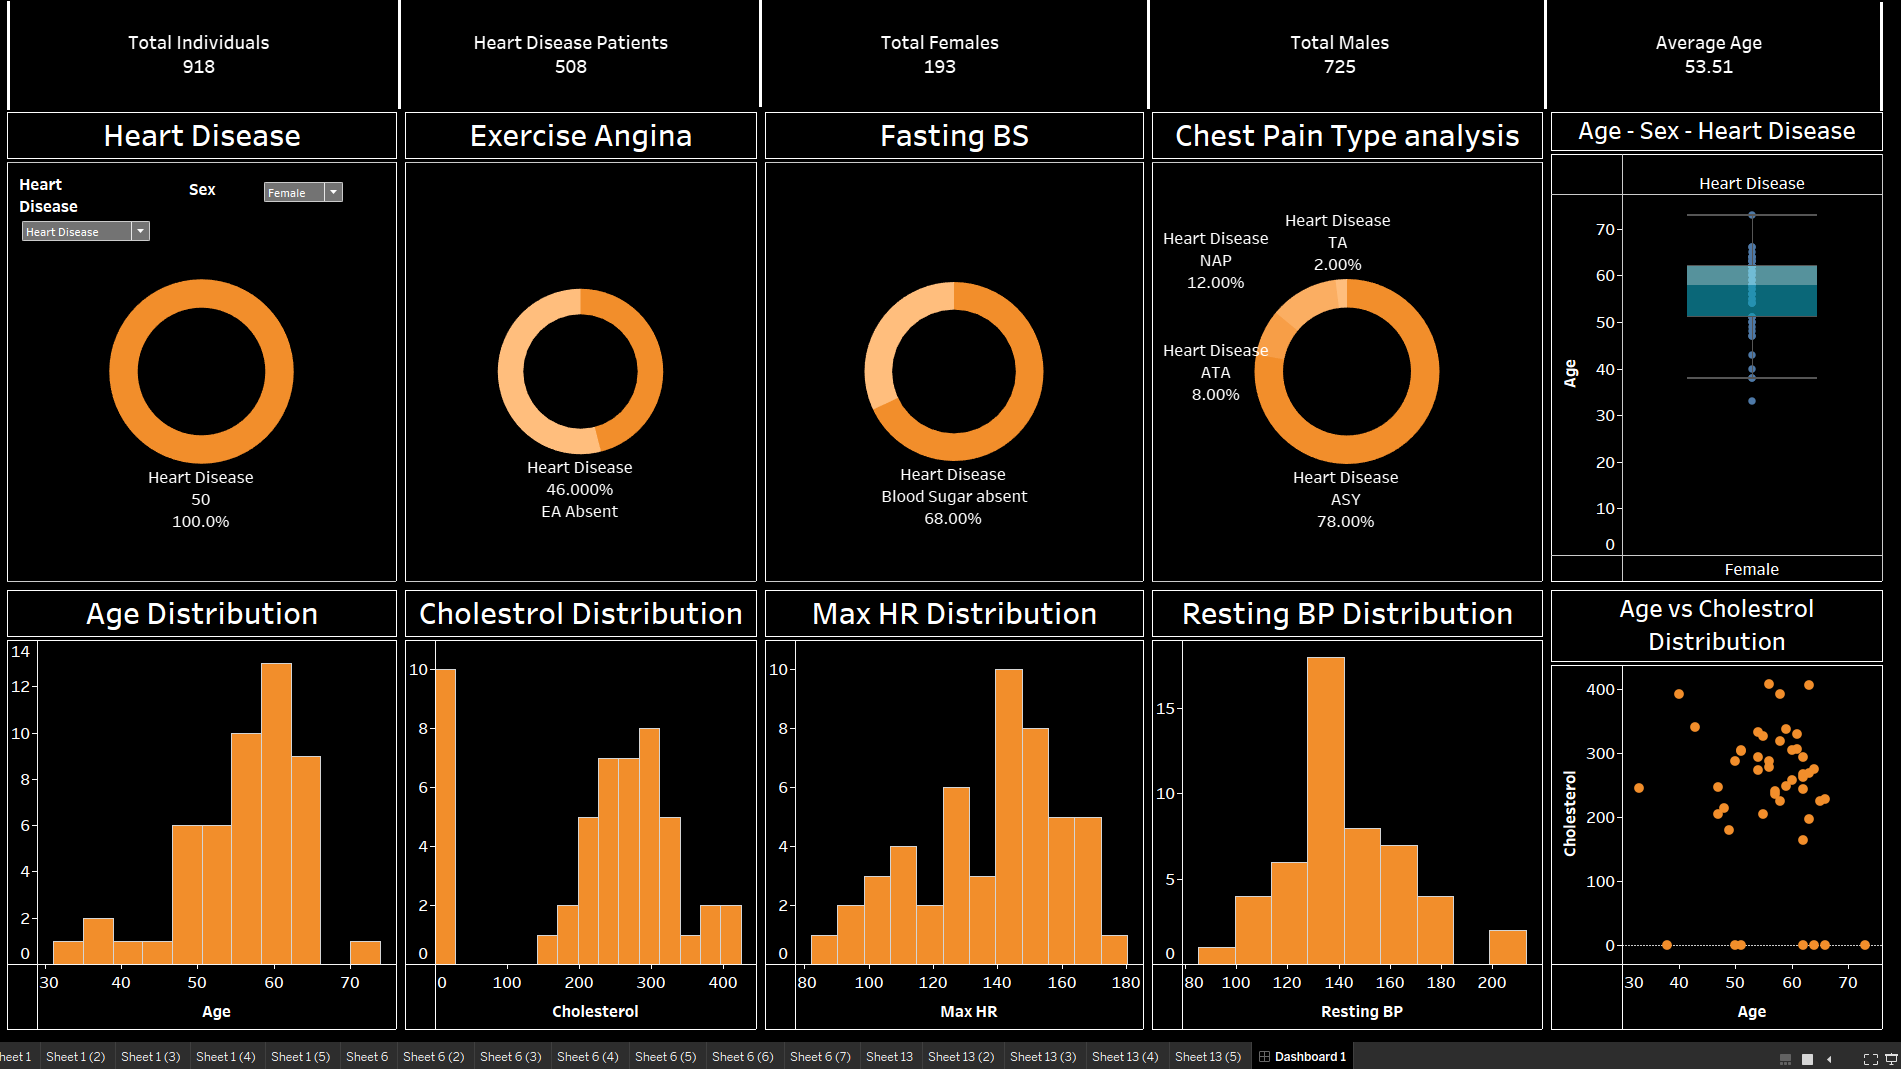

What the dashboard file says about the page in this screenshot:
{"tool":"tableau","page":{"name":"Dashboard 1","canvas":[1900,1050],"ordinal":0},"visuals":[{"type":"blank","box":[764,6,3,109]},{"type":"worksheet","title":"Sheet 13","mark":"Automatic","box":[8,8,398,108]},{"type":"blank","box":[403,8,3,109]},{"type":"worksheet","title":"Sheet 13 (2)","mark":"Automatic","box":[406,8,360,108]},{"type":"worksheet","title":"Sheet 13 (3)","mark":"Automatic","box":[766,8,387,108]},{"type":"blank","box":[1152,8,3,109]},{"type":"worksheet","title":"Sheet 13 (4)","mark":"Automatic","box":[1153,8,399,108]},{"type":"blank","box":[1549,8,3,109]},{"type":"worksheet","title":"Sheet 13 (5)","mark":"Automatic","box":[1552,8,340,108]},{"type":"blank","box":[12,9,3,109]},{"type":"blank","box":[1885,10,3,109]},{"type":"worksheet","title":"Sheet 1","mark":"Pie","rows":["Calculation_1559089924405420033","Calculation_1559089924405420033"],"box":[8,116,398,478.5]},{"type":"worksheet","title":"Sheet 1 (2)","mark":"Pie","rows":["Calculation_1559089924405420033","Calculation_1559089924405420033"],"box":[406,116,360.1,478]},{"type":"worksheet","title":"Sheet 1 (3)","mark":"Pie","rows":["Calculation_1559089924405420033","Calculation_1559089924405420033"],"box":[766,116,386.9,478]},{"type":"worksheet","title":"Sheet 1 (5)","mark":"Pie","rows":["Calculation_1559089924405420033","Calculation_1559089924405420033"],"box":[1152.9,116,399,478]},{"type":"worksheet","title":"Sheet 6 (7)","mark":"Circle","rows":["Age"],"cols":["HeartDisease","Sex"],"box":[1552,116,340,478]},{"type":"filter","title":"Sheet 1","param":"[federated.0mmssow19dczy51bjvsjd0ov2lq9].[none:HeartDisease:nk]","box":[24,181,134,85]},{"type":"filter","title":"Sheet 6 (7)","param":"[federated.0mmssow19dczy51bjvsjd0ov2lq9].[none:Sex:nk]","box":[194,187,157,36]},{"type":"worksheet","title":"Sheet 6 (2)","mark":"Automatic","rows":["Cholesterol"],"cols":["Cholesterol (bin)"],"box":[406,594,360.1,448]},{"type":"worksheet","title":"Sheet 6 (3)","mark":"Automatic","rows":["MaxHR"],"cols":["Max HR (bin)"],"box":[766,594,386.9,448]},{"type":"worksheet","title":"Sheet 6 (4)","mark":"Automatic","rows":["RestingBP"],"cols":["Resting BP (bin)"],"box":[1152.9,594,399,448]},{"type":"worksheet","title":"Sheet 6 (6)","mark":"Automatic","rows":["Cholesterol"],"cols":["Age"],"box":[1552,594,340,448]},{"type":"worksheet","title":"Sheet 6","mark":"Automatic","rows":["Age"],"cols":["Age (bin)"],"box":[8,594.5,398,447.5]}]}

Visuals, with their boxes on the page's 1900x1050 design canvas (x1, y1, x2, y2). These are canvas units, not pixel positions in the 1901x1069 screenshot, which may show the page scaled, cropped or inside an application window:
blank: 764, 6, 767, 115
"Sheet 13" worksheet: 8, 8, 406, 116
blank: 403, 8, 406, 117
"Sheet 13 (2)" worksheet: 406, 8, 766, 116
"Sheet 13 (3)" worksheet: 766, 8, 1153, 116
blank: 1152, 8, 1155, 117
"Sheet 13 (4)" worksheet: 1153, 8, 1552, 116
blank: 1549, 8, 1552, 117
"Sheet 13 (5)" worksheet: 1552, 8, 1892, 116
blank: 12, 9, 15, 118
blank: 1885, 10, 1888, 119
"Sheet 1" worksheet (Pie marks): 8, 116, 406, 594
"Sheet 1 (2)" worksheet (Pie marks): 406, 116, 766, 594
"Sheet 1 (3)" worksheet (Pie marks): 766, 116, 1153, 594
"Sheet 1 (5)" worksheet (Pie marks): 1153, 116, 1552, 594
"Sheet 6 (7)" worksheet (Circle marks): 1552, 116, 1892, 594
"Sheet 1" filter: 24, 181, 158, 266
"Sheet 6 (7)" filter: 194, 187, 351, 223
"Sheet 6 (2)" worksheet: 406, 594, 766, 1042
"Sheet 6 (3)" worksheet: 766, 594, 1153, 1042
"Sheet 6 (4)" worksheet: 1153, 594, 1552, 1042
"Sheet 6 (6)" worksheet: 1552, 594, 1892, 1042
"Sheet 6" worksheet: 8, 594, 406, 1042
